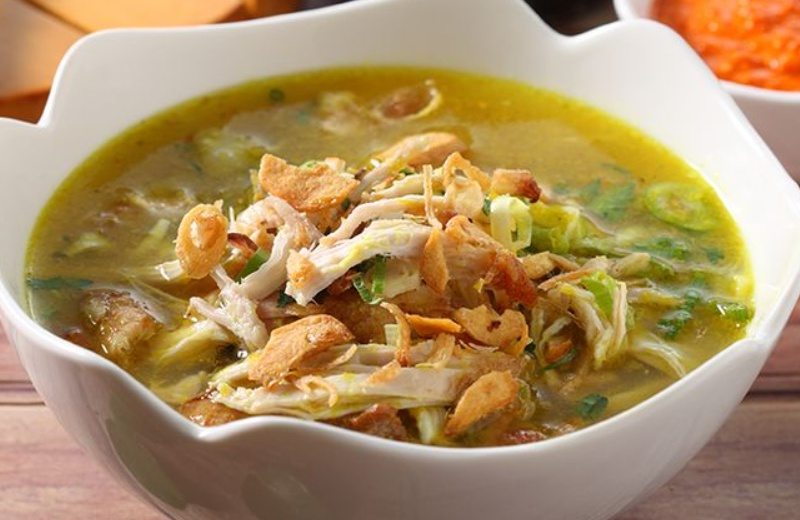soto: (32, 57, 781, 444)
